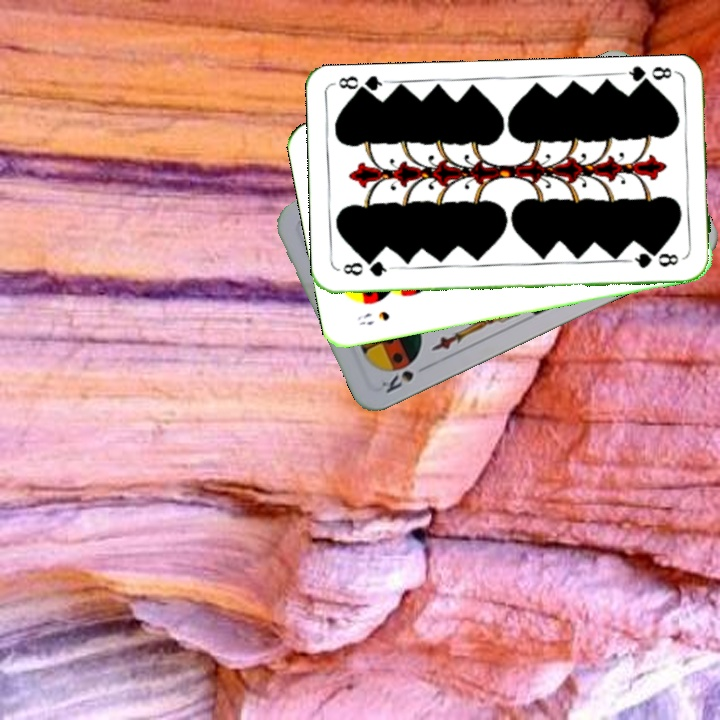G8: (620, 62, 680, 90), (339, 257, 395, 279)
S8: (353, 307, 392, 328)
SK: (377, 361, 432, 396)
